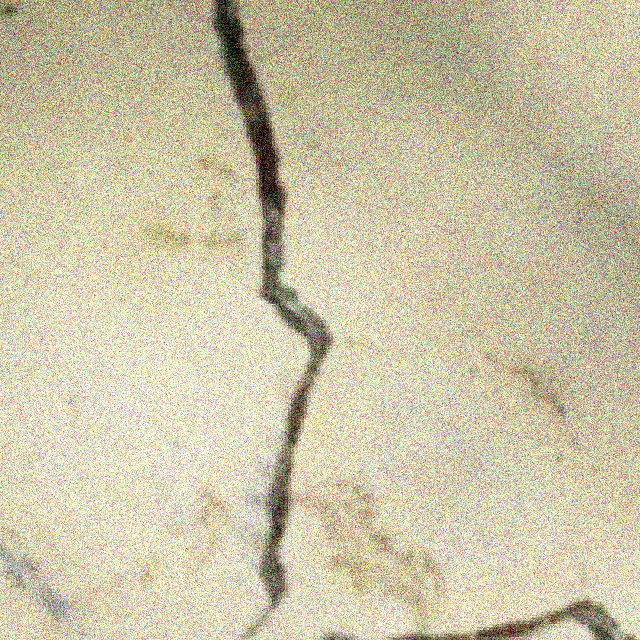SurfaceCrack: (182, 4, 352, 640), (436, 582, 640, 640)
